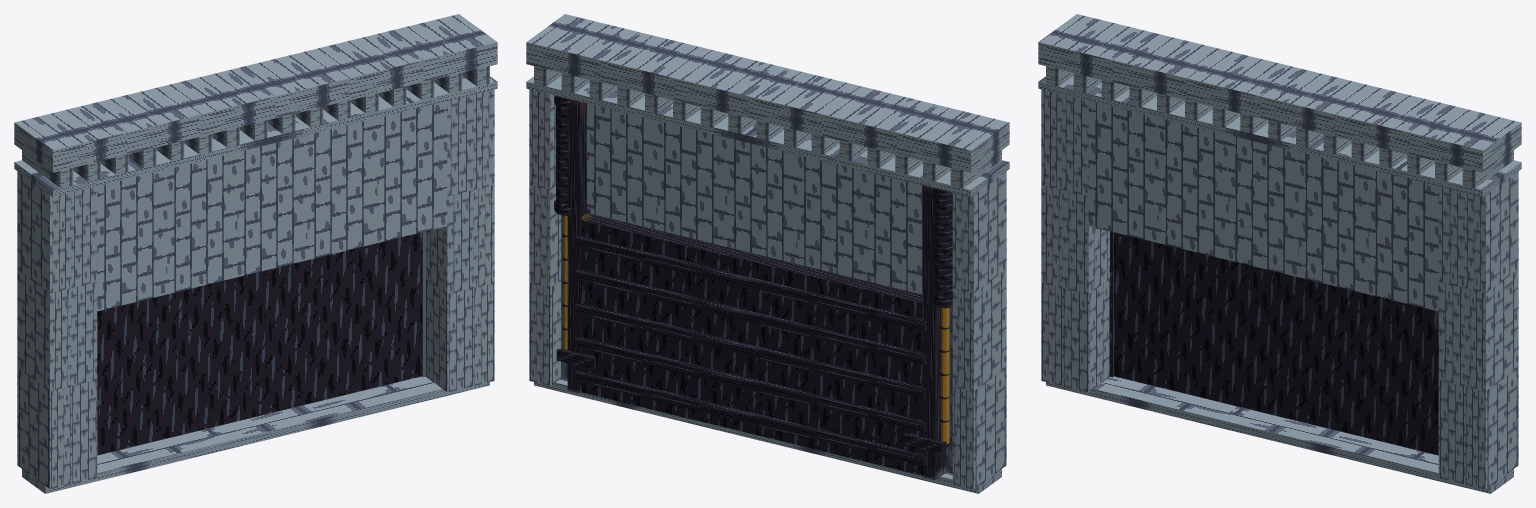
File: IND-03_Compuerta_hidraulica.gltf
The picture shows the model from 3 angles, left to right: view 1: azimuth 30°, elevation 25°; view 2: azimuth 150°, elevation 25°; view 3: azimuth 330°, elevation 25°; orthographic projection.
Parts seen in each view (by area): view 1: IND-03_Compuerta_hidraulica-col, IND-03_Compuerta_hidraulica_hoja-col; view 2: IND-03_Compuerta_hidraulica-col, IND-03_Compuerta_hidraulica_hoja-col; view 3: IND-03_Compuerta_hidraulica-col, IND-03_Compuerta_hidraulica_hoja-col.
Boxes of the visible parts, x1,y1,x2,y2 form: IND-03_Compuerta_hidraulica-col: (14,14,497,493); IND-03_Compuerta_hidraulica_hoja-col: (97,232,422,455); IND-03_Compuerta_hidraulica-col: (526,14,1009,493); IND-03_Compuerta_hidraulica_hoja-col: (556,213,951,475); IND-03_Compuerta_hidraulica-col: (1038,14,1521,493); IND-03_Compuerta_hidraulica_hoja-col: (1113,232,1438,455).
Bounding box in the file's own units: 8 × 6 × 1.2.
1 material, 1 textured.
